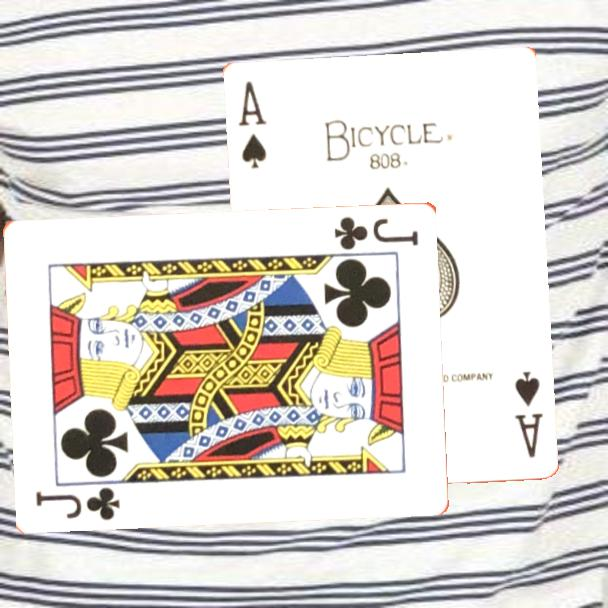c11: (331, 212, 422, 252), (33, 483, 123, 523)
s01: (510, 367, 546, 460), (234, 77, 269, 171)
